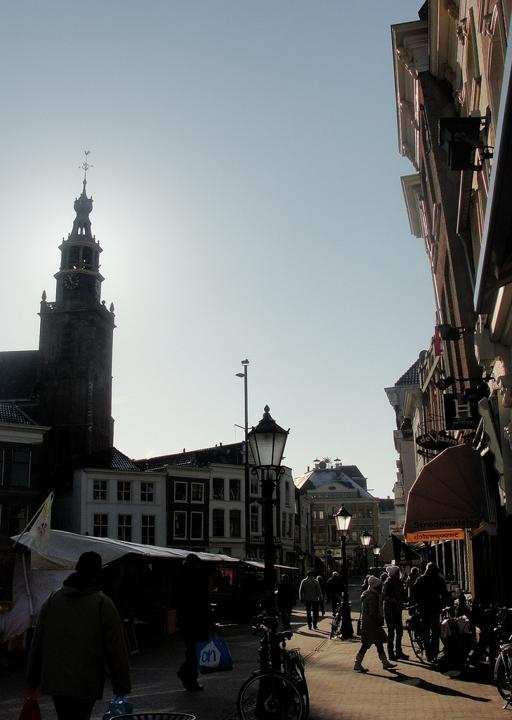non-vehicle: (236, 613, 310, 719), (405, 590, 453, 658), (481, 602, 511, 709), (328, 599, 351, 639)
